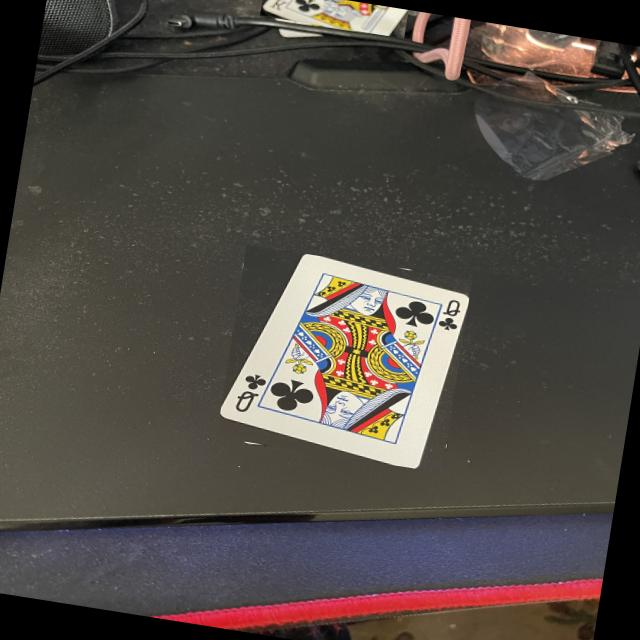King of clubs: (261, 0, 408, 36)
Queen of clubs: (221, 256, 469, 468)
